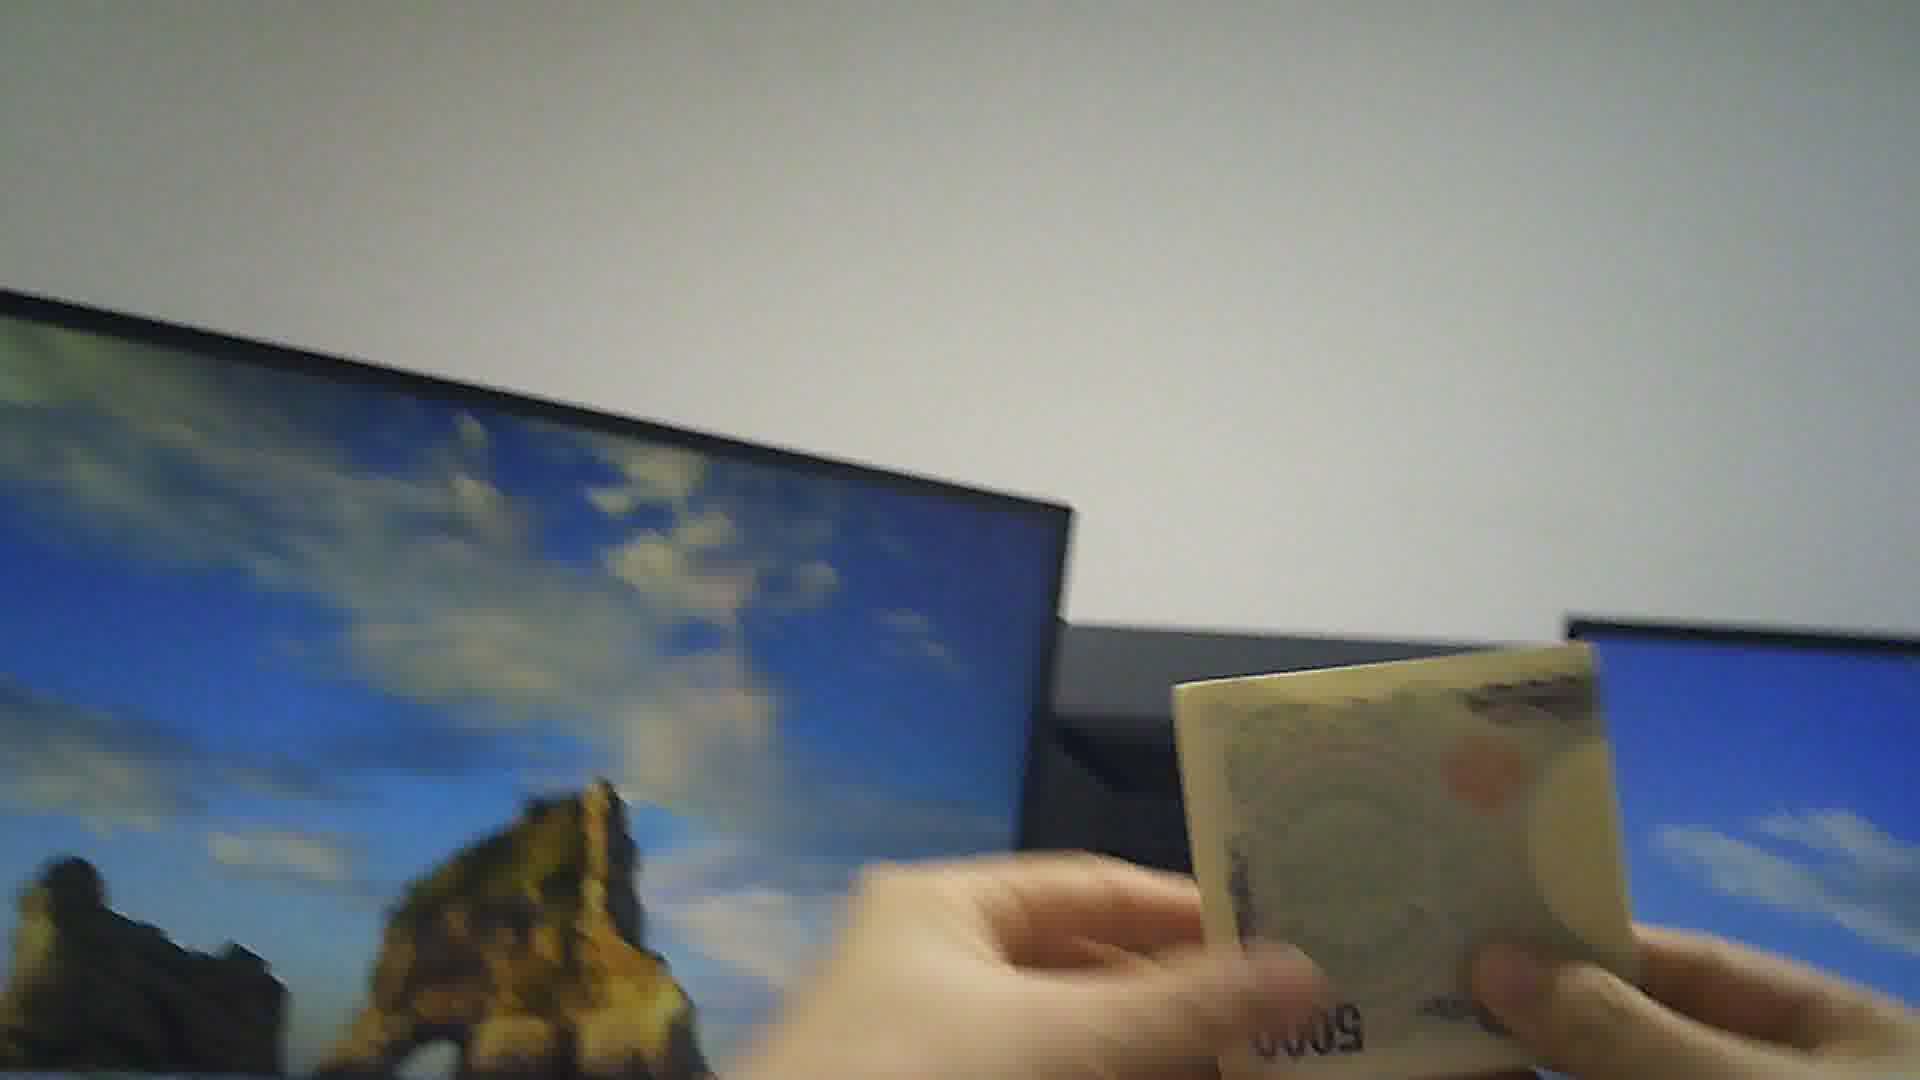5,000 Yen: (1156, 630, 1650, 1079)
